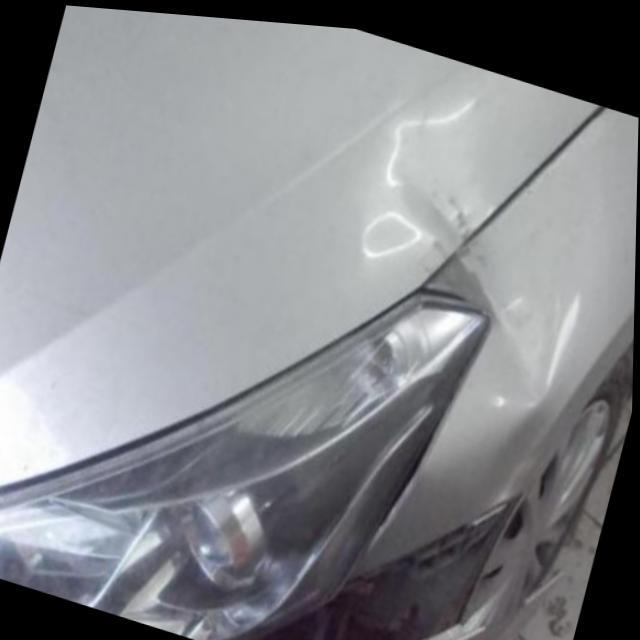dent: (361, 105, 569, 393)
dislocated part: (239, 488, 565, 640)
